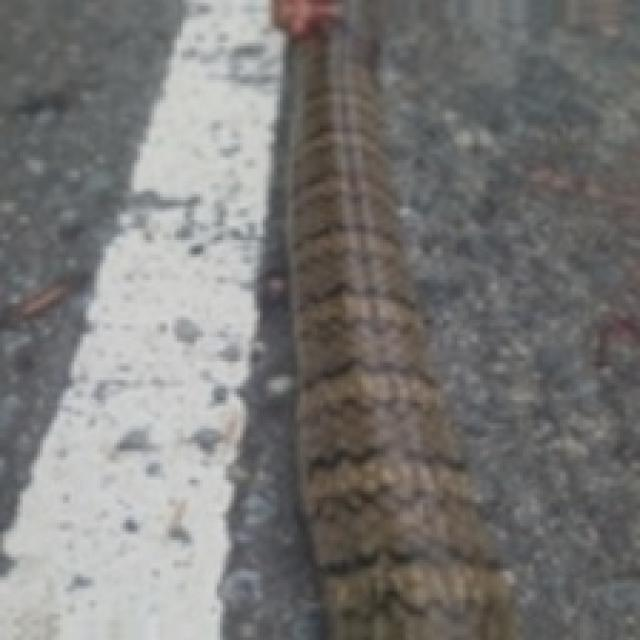king cobra: (223, 0, 514, 637)
